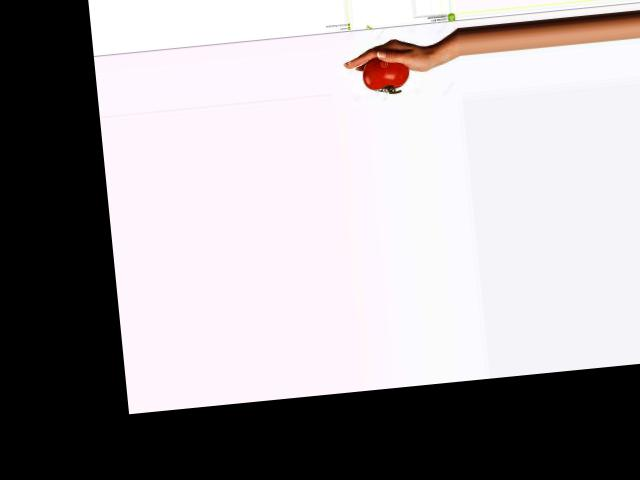tomato: (361, 54, 410, 91)
